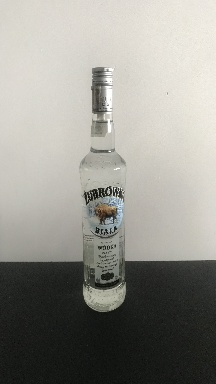butelka: (77, 62, 127, 314)
